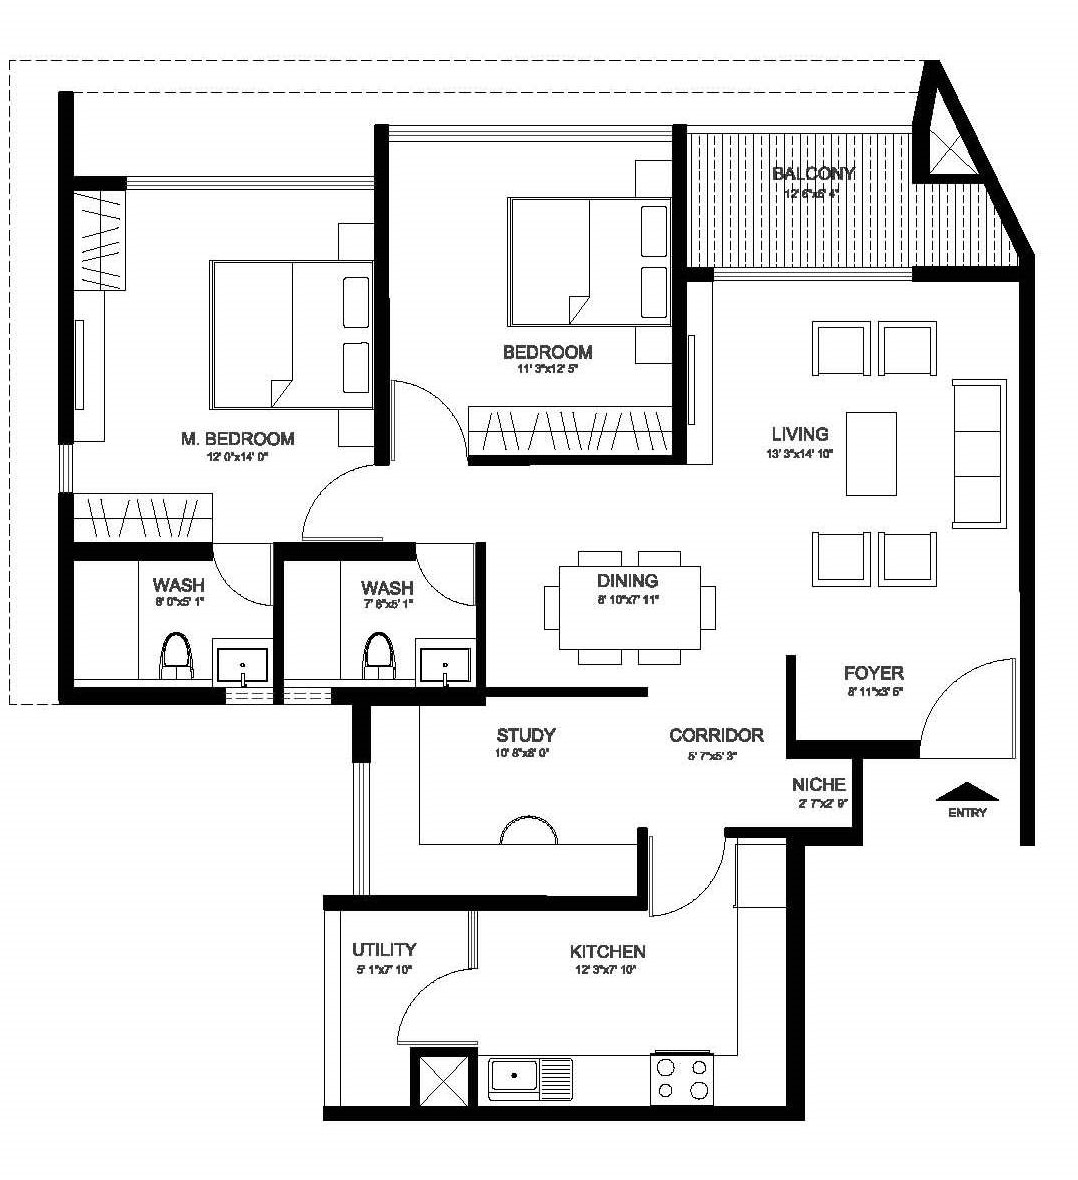room: (679, 275, 1048, 742), (67, 178, 384, 540), (378, 130, 682, 473), (473, 882, 803, 1124), (478, 457, 791, 701), (354, 693, 643, 913), (63, 549, 281, 693), (333, 897, 470, 1124), (278, 543, 478, 697)
